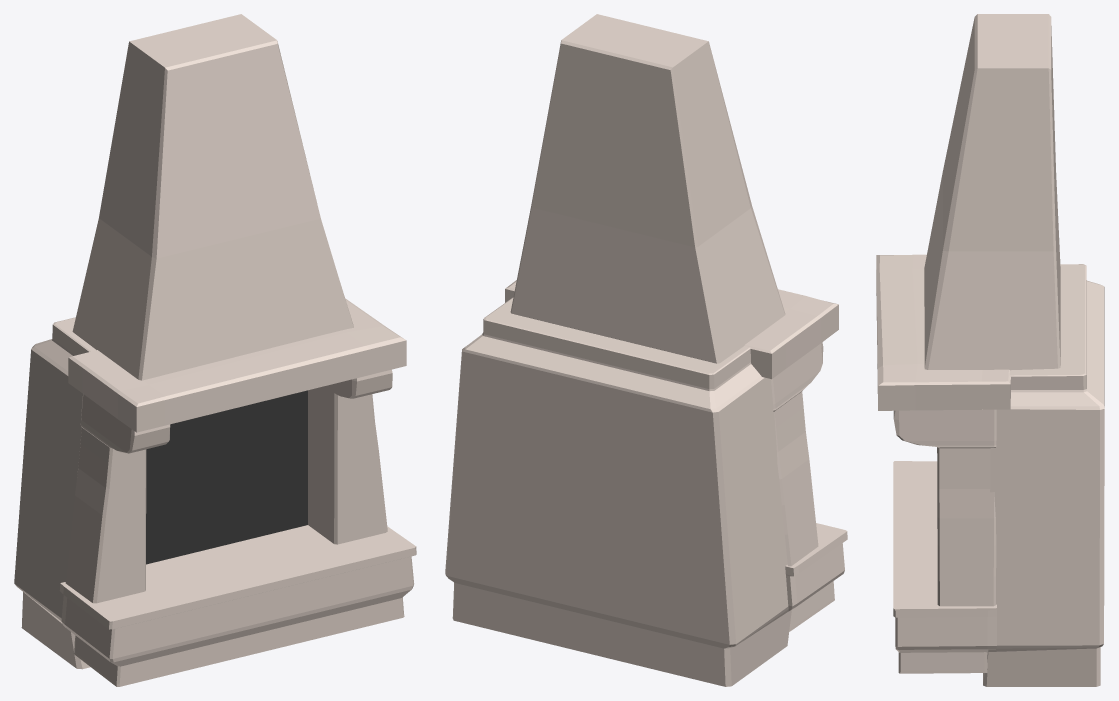
The model's file is Fireplace_1.fbx.
3 views of the same model, side by side, from view 1: azimuth 30°, elevation 25°; view 2: azimuth 150°, elevation 25°; view 3: azimuth 270°, elevation 25° (orthographic).
Parts seen in each view (by area): view 1: Fireplace_1; view 2: Fireplace_1; view 3: Fireplace_1.
Boxes of the visible parts, bbox=[...] form: Fireplace_1: bbox=[14, 14, 416, 686]; Fireplace_1: bbox=[445, 14, 847, 686]; Fireplace_1: bbox=[876, 14, 1104, 686].
Size of the model in its own units: 221 by 143 by 400.
